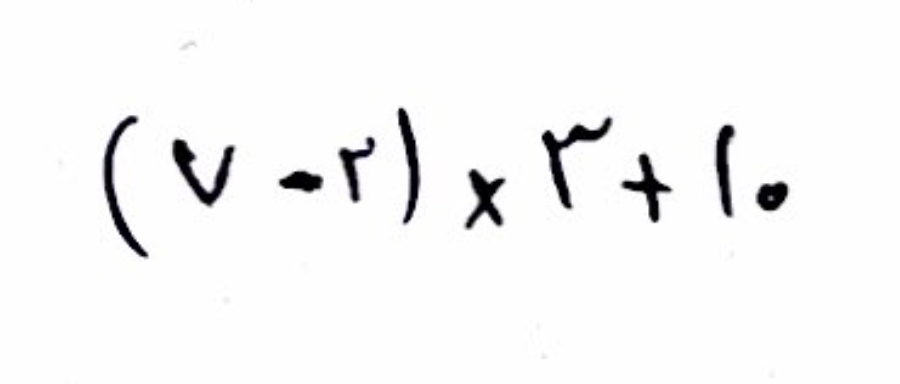character: (102, 113, 155, 254), (541, 114, 606, 212), (167, 136, 238, 207), (620, 149, 675, 221), (395, 105, 421, 226), (334, 134, 376, 204), (464, 168, 509, 230), (714, 121, 736, 219), (274, 166, 330, 193), (753, 179, 791, 210)
